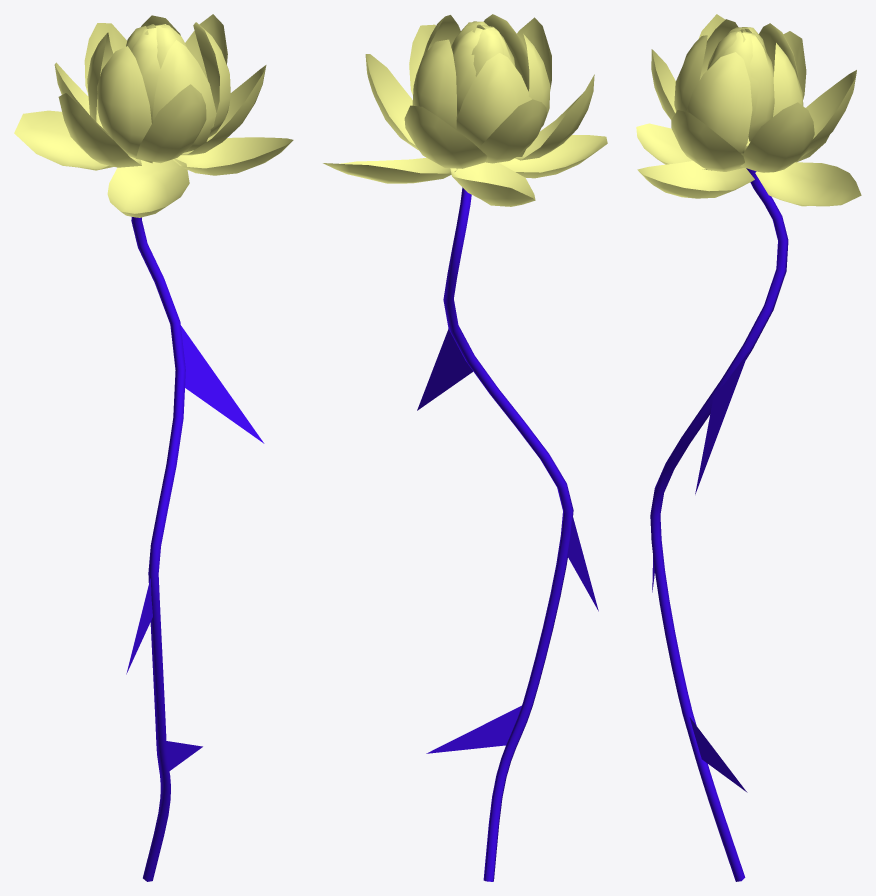
Rendered from Lotus_Flower_A.FBX.
3 views of the same model, side by side, from view 1: azimuth 30°, elevation 25°; view 2: azimuth 150°, elevation 25°; view 3: azimuth 270°, elevation 25° (orthographic).
Visible parts, largest first — view 1: Geometry_Lotus_Flower_B_LOD00; view 2: Geometry_Lotus_Flower_B_LOD00; view 3: Geometry_Lotus_Flower_B_LOD00.
Part boxes in pixels (x1,y1,x2,y2): Geometry_Lotus_Flower_B_LOD00: (14, 14, 293, 881); Geometry_Lotus_Flower_B_LOD00: (323, 14, 607, 881); Geometry_Lotus_Flower_B_LOD00: (636, 14, 861, 881).
Size of what is drawn, in the model's own units: 23.81 by 96.93 by 23.17.
